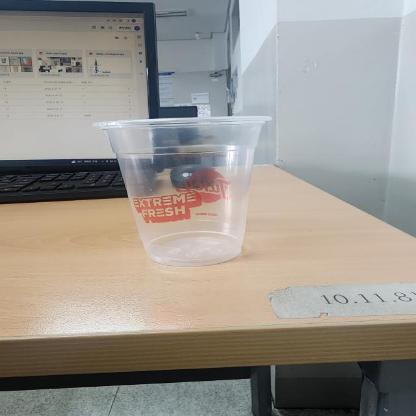Plastic Cup: (95, 115, 271, 265)
